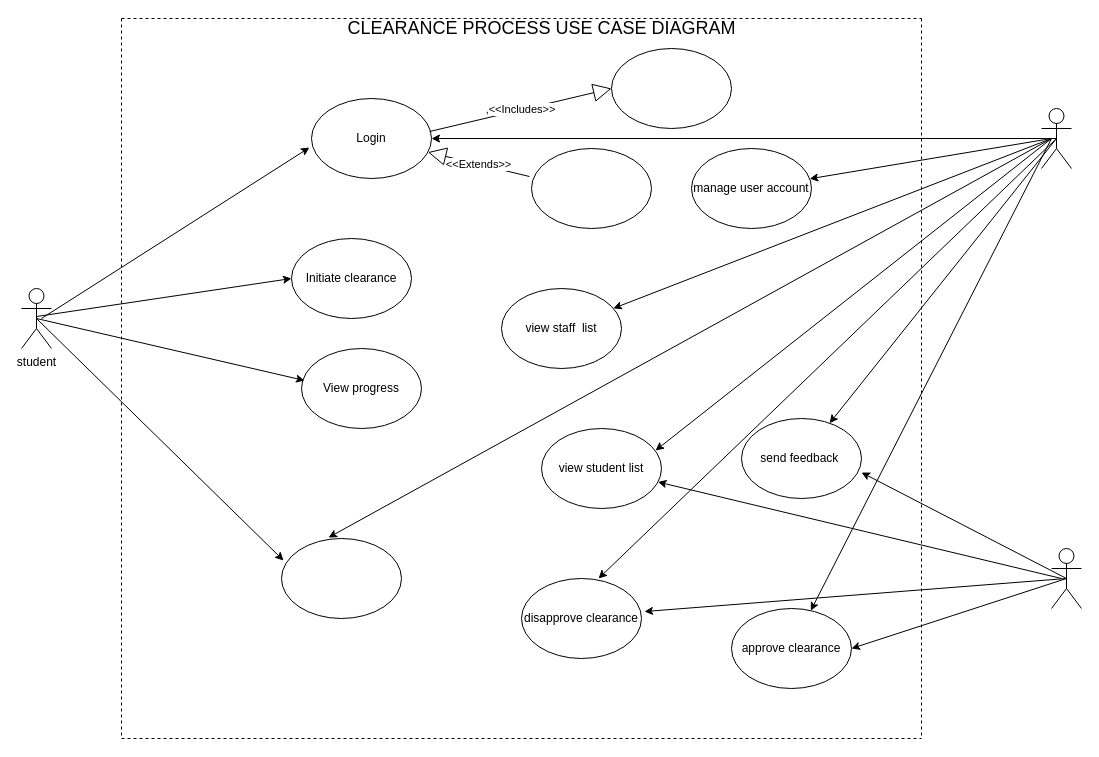
Image size: 1099x757. Some labels were removed from this diagram. Each missing label, with the centre of its shape:
"Admin" goes at point (1056, 138).
"Display Login erro" goes at point (591, 188).
"receive feedback" goes at point (341, 578).
"Staff" goes at point (1066, 578).
"verify password" goes at point (671, 88).
